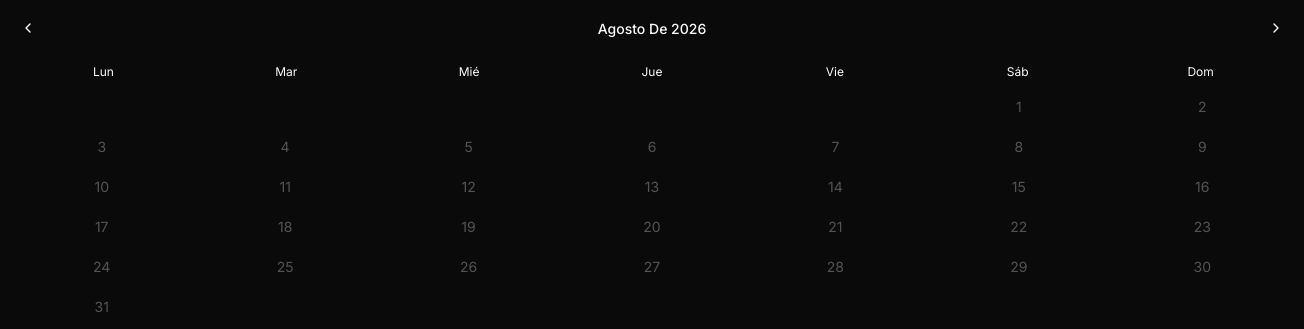
CalendarPublic › navigates to previous month
This screenshot has width=1304, height=329.
Step 1. Click the button named "Mes anterior" → coordinates (28, 28), box x1=12 y1=12 x2=44 y2=44
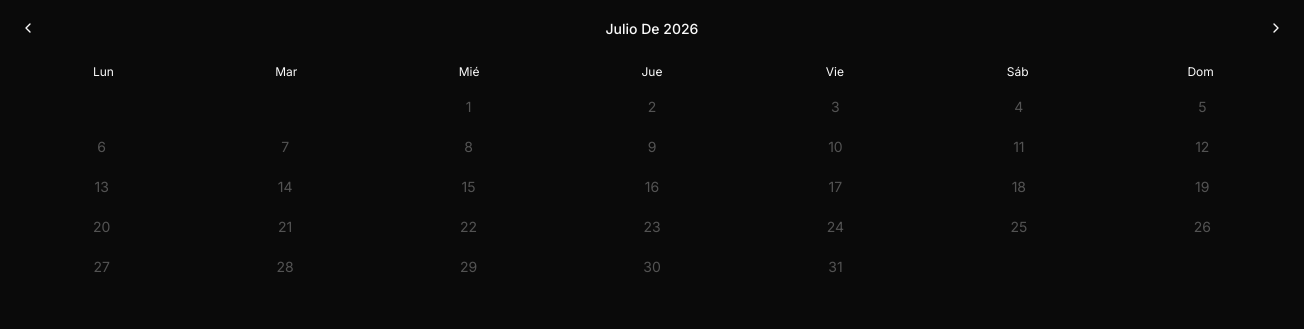
Result: the text "julio de 2026" is shown at x1=606 y1=18 x2=698 y2=38
